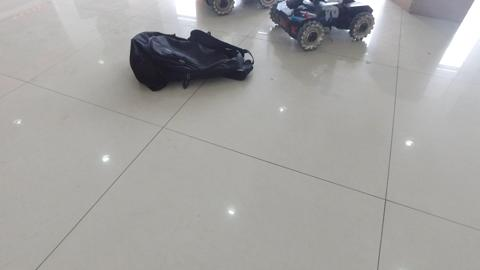bag: (131, 30, 255, 88)
chariot: (272, 1, 375, 45)
